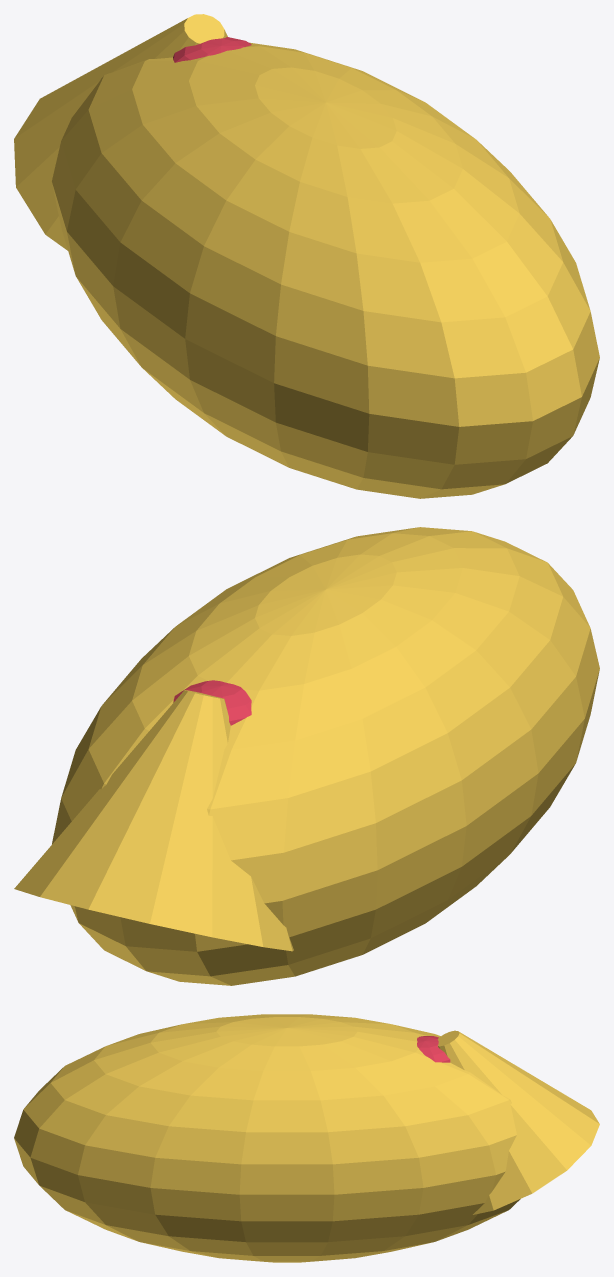
The model's file is charm-clog.glb.
3 renders of one model, top to bottom at view 1: azimuth 30°, elevation 25°; view 2: azimuth 150°, elevation 25°; view 3: azimuth 270°, elevation 25°, orthographic. The views are drawn at different scales.
Visible parts, largest first — view 1: charm_clog; view 2: charm_clog; view 3: charm_clog.
Part boxes in pixels (x1,y1,x2,y2): charm_clog: [14, 14, 599, 498]; charm_clog: [14, 527, 599, 985]; charm_clog: [14, 1014, 599, 1262].
Bounding box in the file's own units: 0.0039 × 0.00352 × 0.0085.
